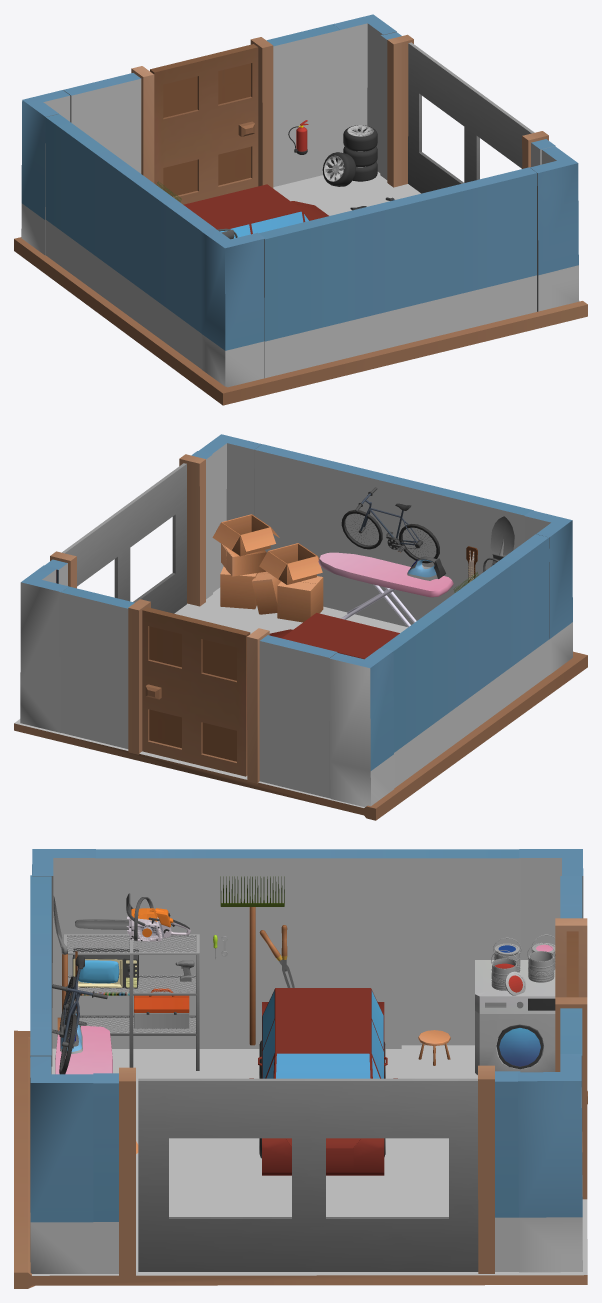
Rendered from GARAJE.fbx.
3 renders of one model, top to bottom at view 1: azimuth 30°, elevation 25°; view 2: azimuth 150°, elevation 25°; view 3: azimuth 270°, elevation 25°, orthographic. The views are drawn at different scales.
Parts seen in each view (by area): view 1: paret_basica26, paret_basica24, paret_puerta46, puerta34, suelo13, paret_esquina36, puerta_garaje6, paret_esquina31, paret_garaje3, paret_esquina35, paret_esquina_74, cotche2 (+1 smaller); view 2: paret_puerta46, paret_basica24, paret_basica26, puerta34, suelo13, paret_esquina_74, cajas2, puerta_garaje6, paret_esquina35, paret_garaje3, plancha2, paret_esquina36 (+4 smaller); view 3: paret_basica24, puerta_garaje6, suelo13, paret_garaje3, cotche2, paret_esquina35, paret_esquina31, lavadora2, paret_esquina36, paret_puerta46, estanteria5, paret_esquina_74 (+11 smaller).
Part boxes in pixels (<box>): paret_basica26: <box>259,167,536,378</box>; paret_basica24: <box>44,114,214,368</box>; paret_puerta46: <box>63,24,342,188</box>; puerta34: <box>150,44,258,204</box>; suelo13: <box>14,170,587,405</box>; paret_esquina36: <box>201,228,265,387</box>; puerta_garaje6: <box>408,42,534,193</box>; paret_esquina31: <box>530,146,578,311</box>; paret_garaje3: <box>380,32,555,187</box>; paret_esquina35: <box>333,14,396,172</box>; paret_esquina_74: <box>21,90,70,255</box>; cotche2: <box>183,184,328,238</box>; paret_puerta46: <box>59,586,337,798</box>; paret_basica24: <box>380,534,549,787</box>; paret_basica26: <box>254,444,533,626</box>; puerta34: <box>142,607,250,776</box>; suelo13: <box>14,587,587,820</box>; paret_esquina_74: <box>329,648,394,806</box>; cajas2: <box>212,514,323,622</box>; puerta_garaje6: <box>62,463,186,613</box>; paret_esquina35: <box>20,565,68,732</box>; paret_garaje3: <box>45,451,212,606</box>; plancha2: <box>318,552,453,627</box>; paret_esquina36: <box>524,510,572,674</box>; paret_basica24: <box>95,849,521,1048</box>; puerta_garaje6: <box>138,1078,478,1271</box>; suelo13: <box>14,1030,587,1288</box>; paret_garaje3: <box>93,1065,520,1275</box>; cotche2: <box>249,988,397,1175</box>; paret_esquina35: <box>518,1054,582,1272</box>; paret_esquina31: <box>30,1056,94,1273</box>; lavadora2: <box>475,960,555,1074</box>; paret_esquina36: <box>32,849,95,1066</box>; paret_puerta46: <box>555,875,587,1199</box>; estanteria5: <box>63,934,199,1070</box>; paret_esquina_74: <box>519,849,583,959</box>.
Size of the model in its own units: 889 by 357 by 892.
